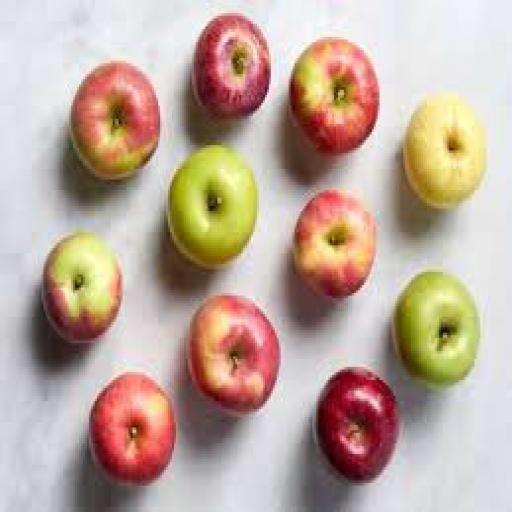Apple: (188, 296, 280, 414), (70, 61, 160, 179), (169, 146, 256, 266), (289, 37, 379, 153), (394, 272, 480, 387), (315, 367, 399, 482), (89, 373, 175, 485), (404, 96, 486, 208), (42, 233, 122, 343), (293, 191, 375, 298), (192, 14, 270, 118)
